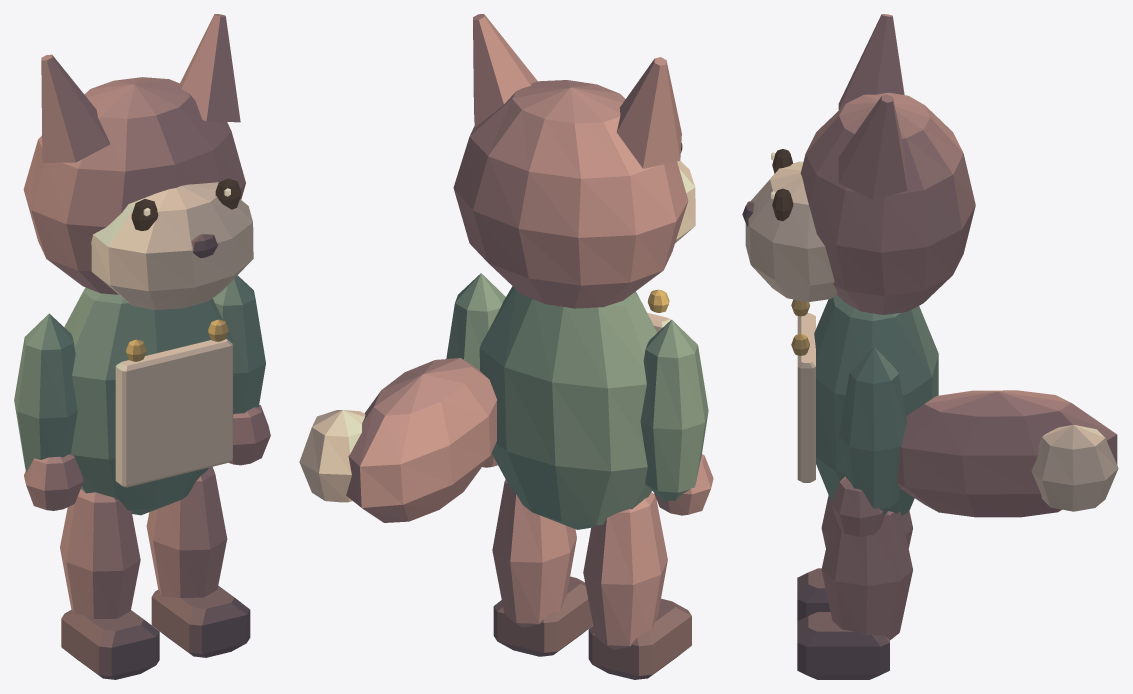
Rendered from npc_edda.glb.
The picture shows the model from 3 angles, left to right: view 1: azimuth 30°, elevation 25°; view 2: azimuth 150°, elevation 25°; view 3: azimuth 270°, elevation 25°; orthographic projection. The views are drawn at different scales.
Parts seen in each view (by area): view 1: npc_edda, npc_edda_leg_l, npc_edda_leg_r, npc_edda_arm_l, npc_edda_arm_r; view 2: npc_edda, npc_edda_leg_l, npc_edda_leg_r, npc_edda_arm_l, npc_edda_arm_r; view 3: npc_edda, npc_edda_leg_r, npc_edda_arm_r, npc_edda_leg_l.
Boxes of the visible parts, <box> form: npc_edda: <box>23,14,253,515</box>; npc_edda_leg_l: <box>60,489,159,679</box>; npc_edda_leg_r: <box>146,466,250,657</box>; npc_edda_arm_l: <box>14,313,83,510</box>; npc_edda_arm_r: <box>213,275,270,465</box>; npc_edda: <box>299,14,695,529</box>; npc_edda_leg_l: <box>583,492,691,679</box>; npc_edda_leg_r: <box>492,479,593,656</box>; npc_edda_arm_l: <box>640,319,713,515</box>; npc_edda_arm_r: <box>446,273,505,467</box>; npc_edda: <box>742,14,1118,517</box>; npc_edda_leg_r: <box>797,511,912,679</box>; npc_edda_arm_r: <box>831,347,906,536</box>; npc_edda_leg_l: <box>797,495,912,620</box>.
Size of the model in its own units: 0.737 by 1.51 by 0.87.
